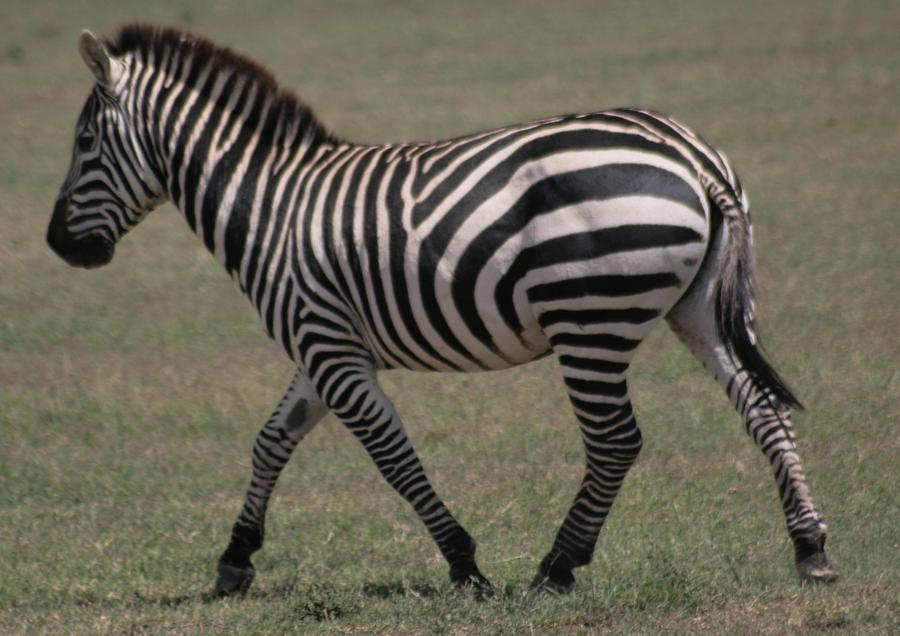zebra_plains: (239, 130, 664, 373)
